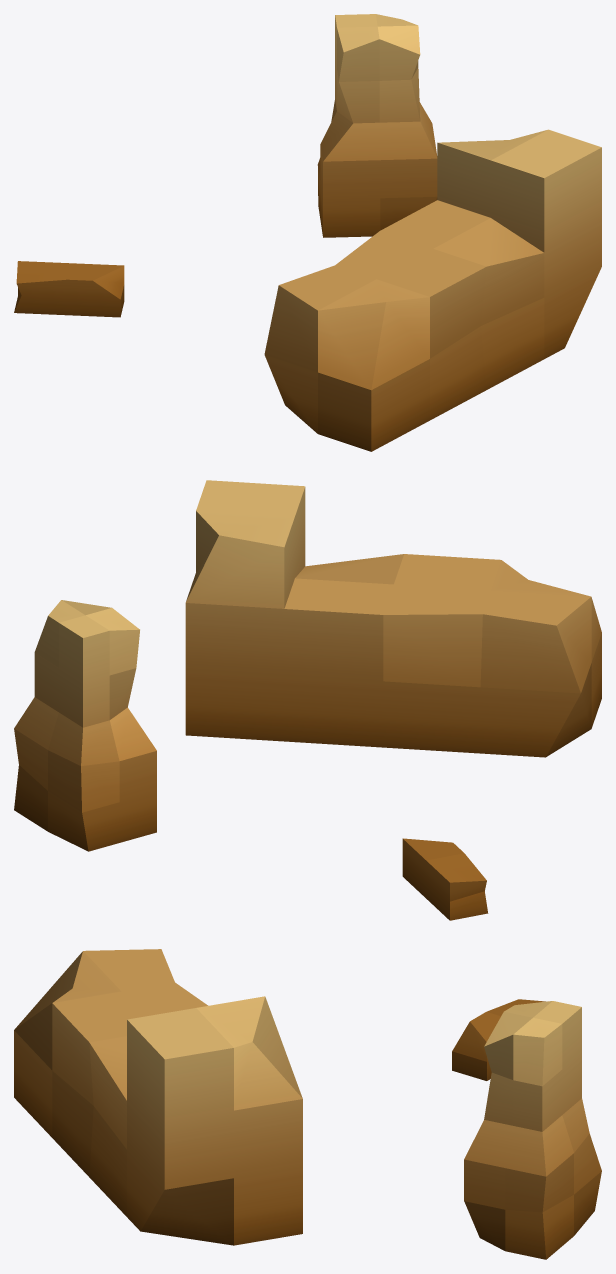
File: ruins_04.fbx
3 views of the same model, one above another, from view 1: azimuth 30°, elevation 25°; view 2: azimuth 150°, elevation 25°; view 3: azimuth 270°, elevation 25° (orthographic). The views are drawn at different scales.
Parts seen in each view (by area): view 1: ruins_04; view 2: ruins_04; view 3: ruins_04.
Boxes of the visible parts, box(x1,y1,x2,y2) form: ruins_04: box(14, 14, 601, 451); ruins_04: box(14, 480, 601, 920); ruins_04: box(14, 949, 601, 1259).
Size of the model in its own units: 171 by 72.96 by 185.
